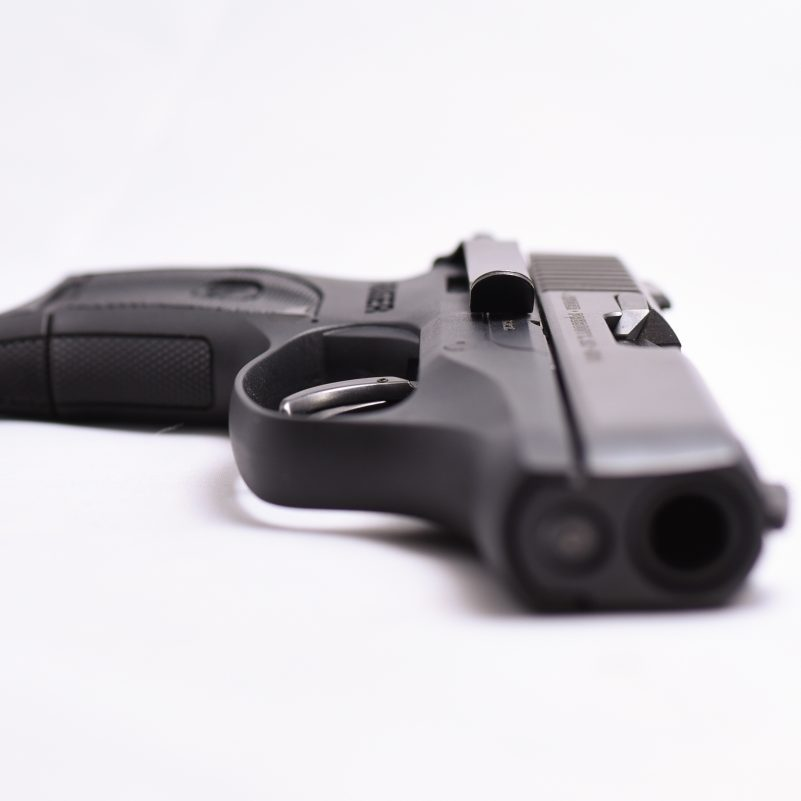gun: (1, 228, 800, 621)
